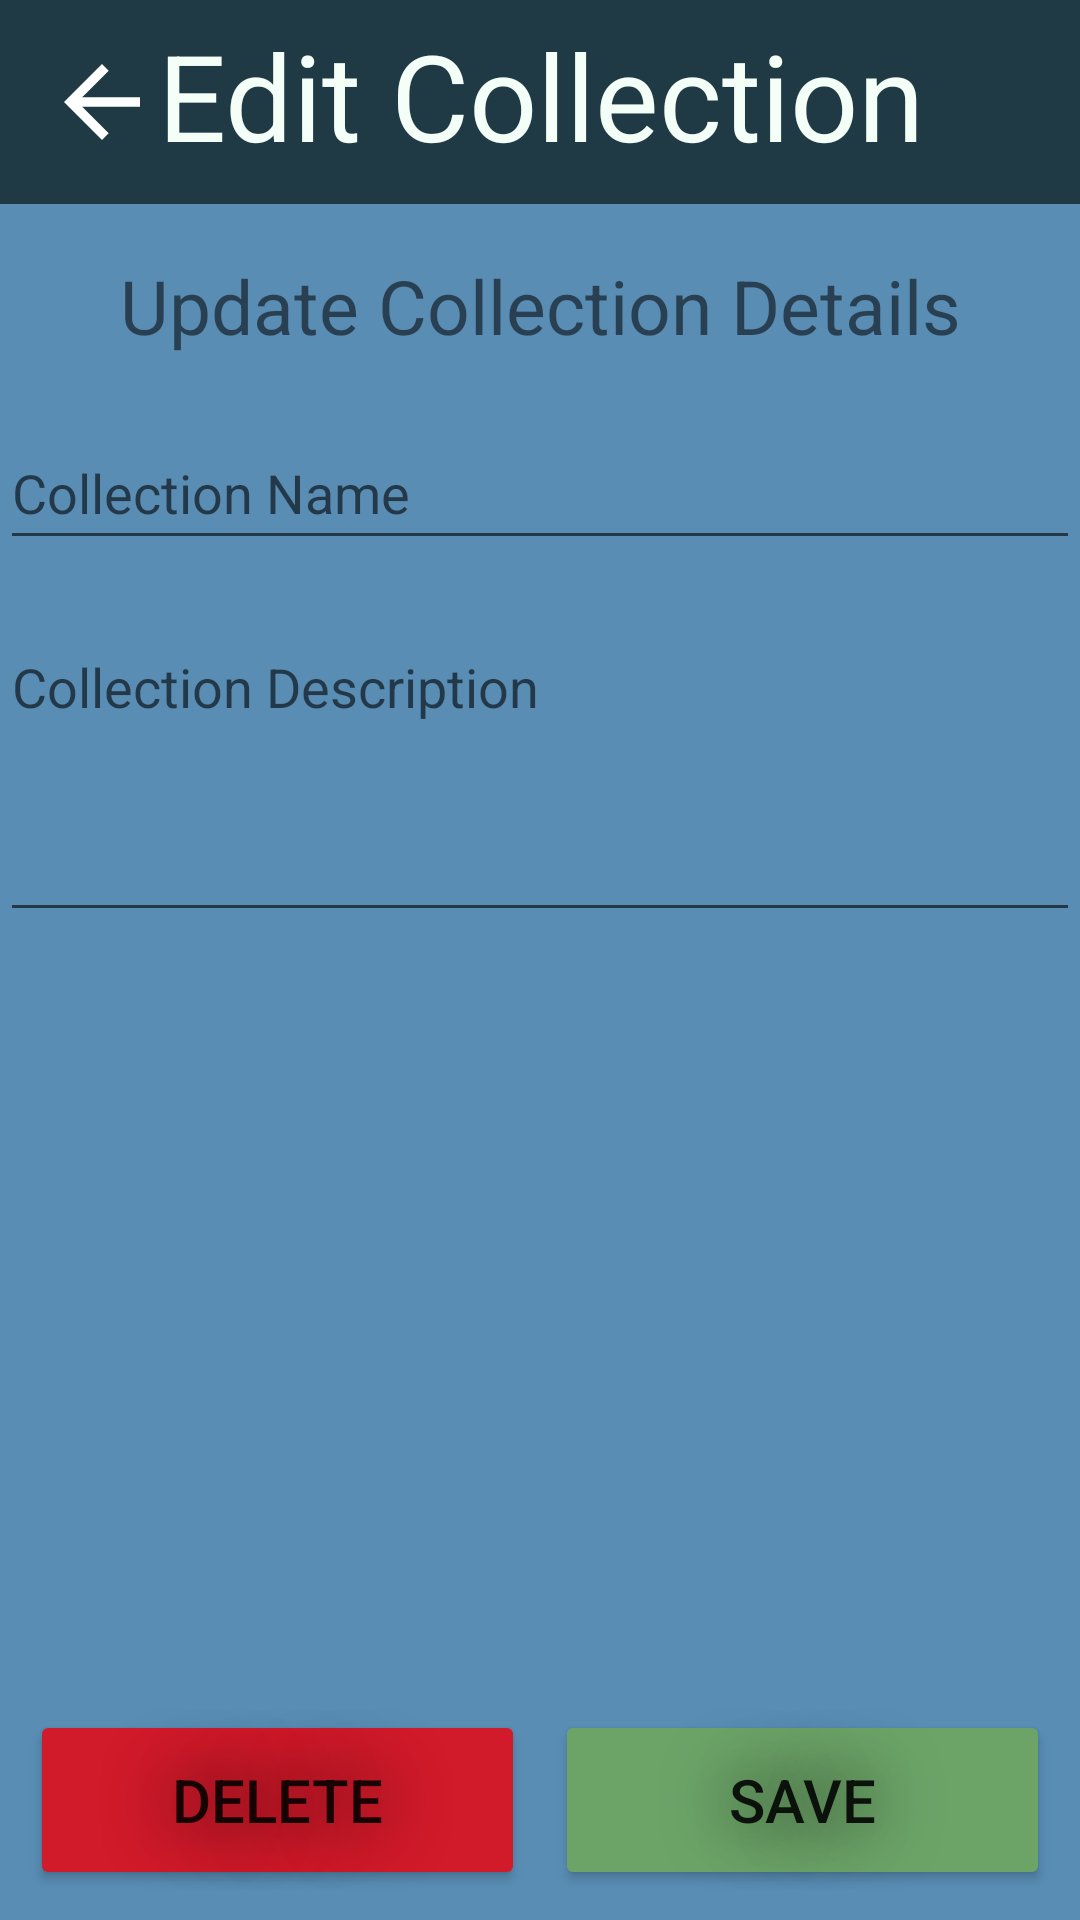

Locate icon controls on the screen. Image size 1080w x 1920h, boxes as (x1, y1, x2, y2).
arrow: (64, 64, 140, 140)
